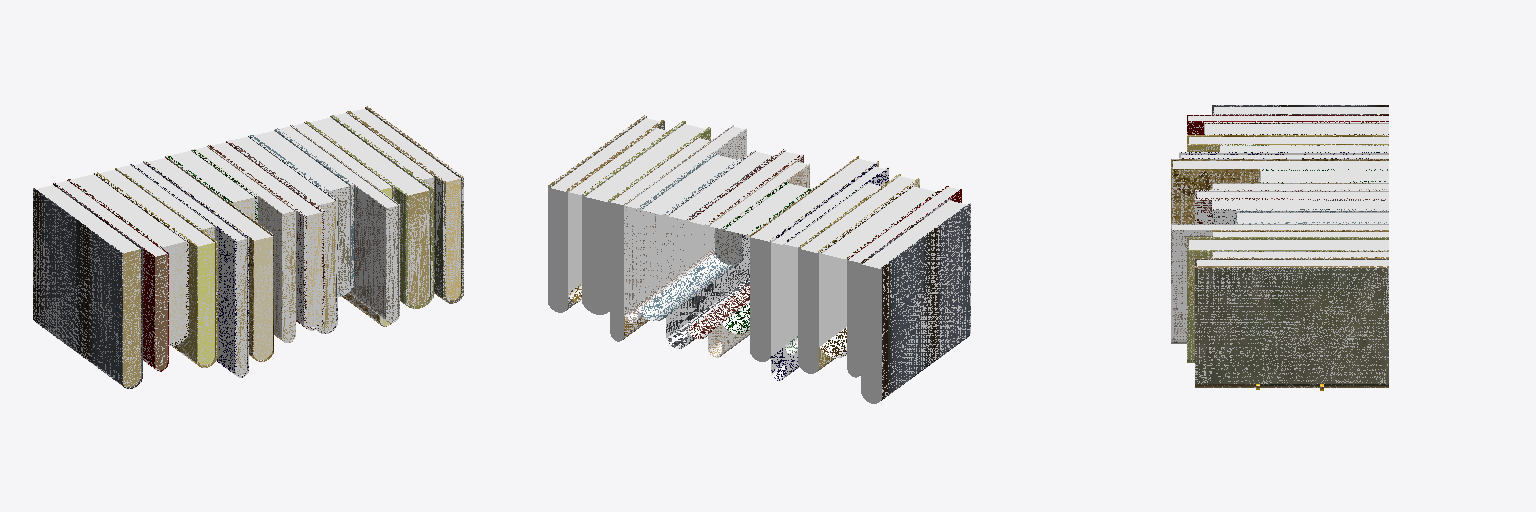
The picture shows the model from 3 angles: view 1: azimuth 30°, elevation 25°; view 2: azimuth 150°, elevation 25°; view 3: azimuth 270°, elevation 25°; orthographic projection.
Visible parts, largest first — view 1: books; view 2: books; view 3: books.
Part boxes in pixels (x1,y1,x2,y2): books: (33,106,463,388); books: (548,115,970,403); books: (1171,105,1388,390).
Size of the model in its own units: 12.08 by 4.75 by 6.75.
Materials: 106 (16 with a texture image).